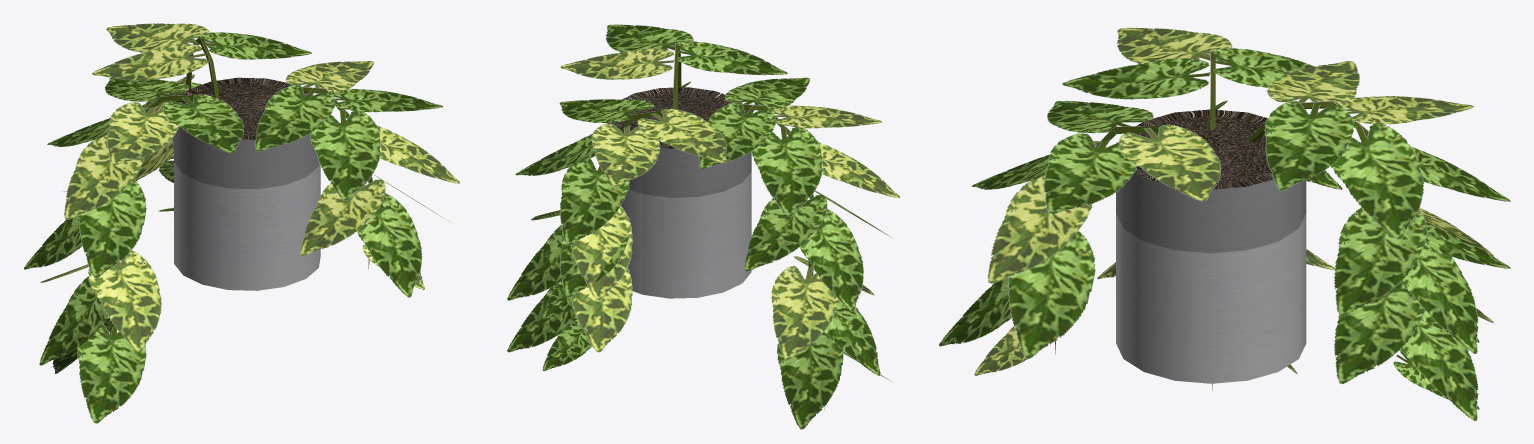
File: FlowerRoom4a.FBX
3 views of the same model, side by side, from view 1: azimuth 30°, elevation 25°; view 2: azimuth 150°, elevation 25°; view 3: azimuth 270°, elevation 25° (orthographic). The views are drawn at different scales.
Parts seen in each view (by area): view 1: FlowerRoom4; view 2: FlowerRoom4; view 3: FlowerRoom4.
Part boxes in pixels (<box>): FlowerRoom4: <box>24,23,459,423</box>; FlowerRoom4: <box>507,24,899,429</box>; FlowerRoom4: <box>939,27,1510,421</box>.
Size of the model in its own units: 30.91 by 24.36 by 33.69.
